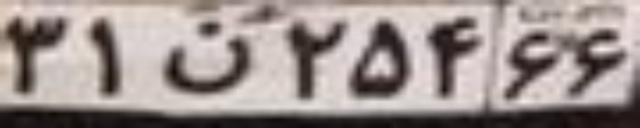1: (88, 13, 122, 97)
2: (281, 19, 346, 99)
3: (4, 13, 70, 95)
4: (430, 14, 484, 98)
5: (351, 20, 410, 98)
6: (566, 29, 624, 99), (501, 32, 556, 101)
non: (158, 19, 254, 94)
